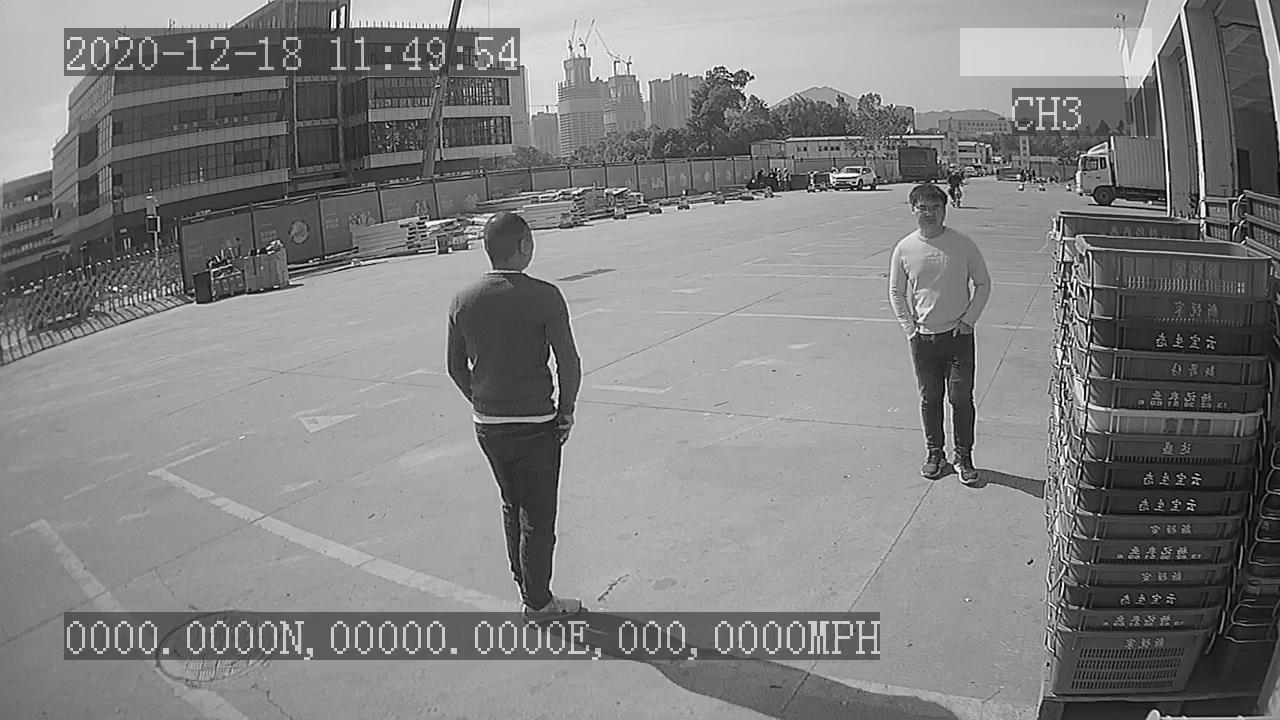person: (884, 179, 997, 495)
